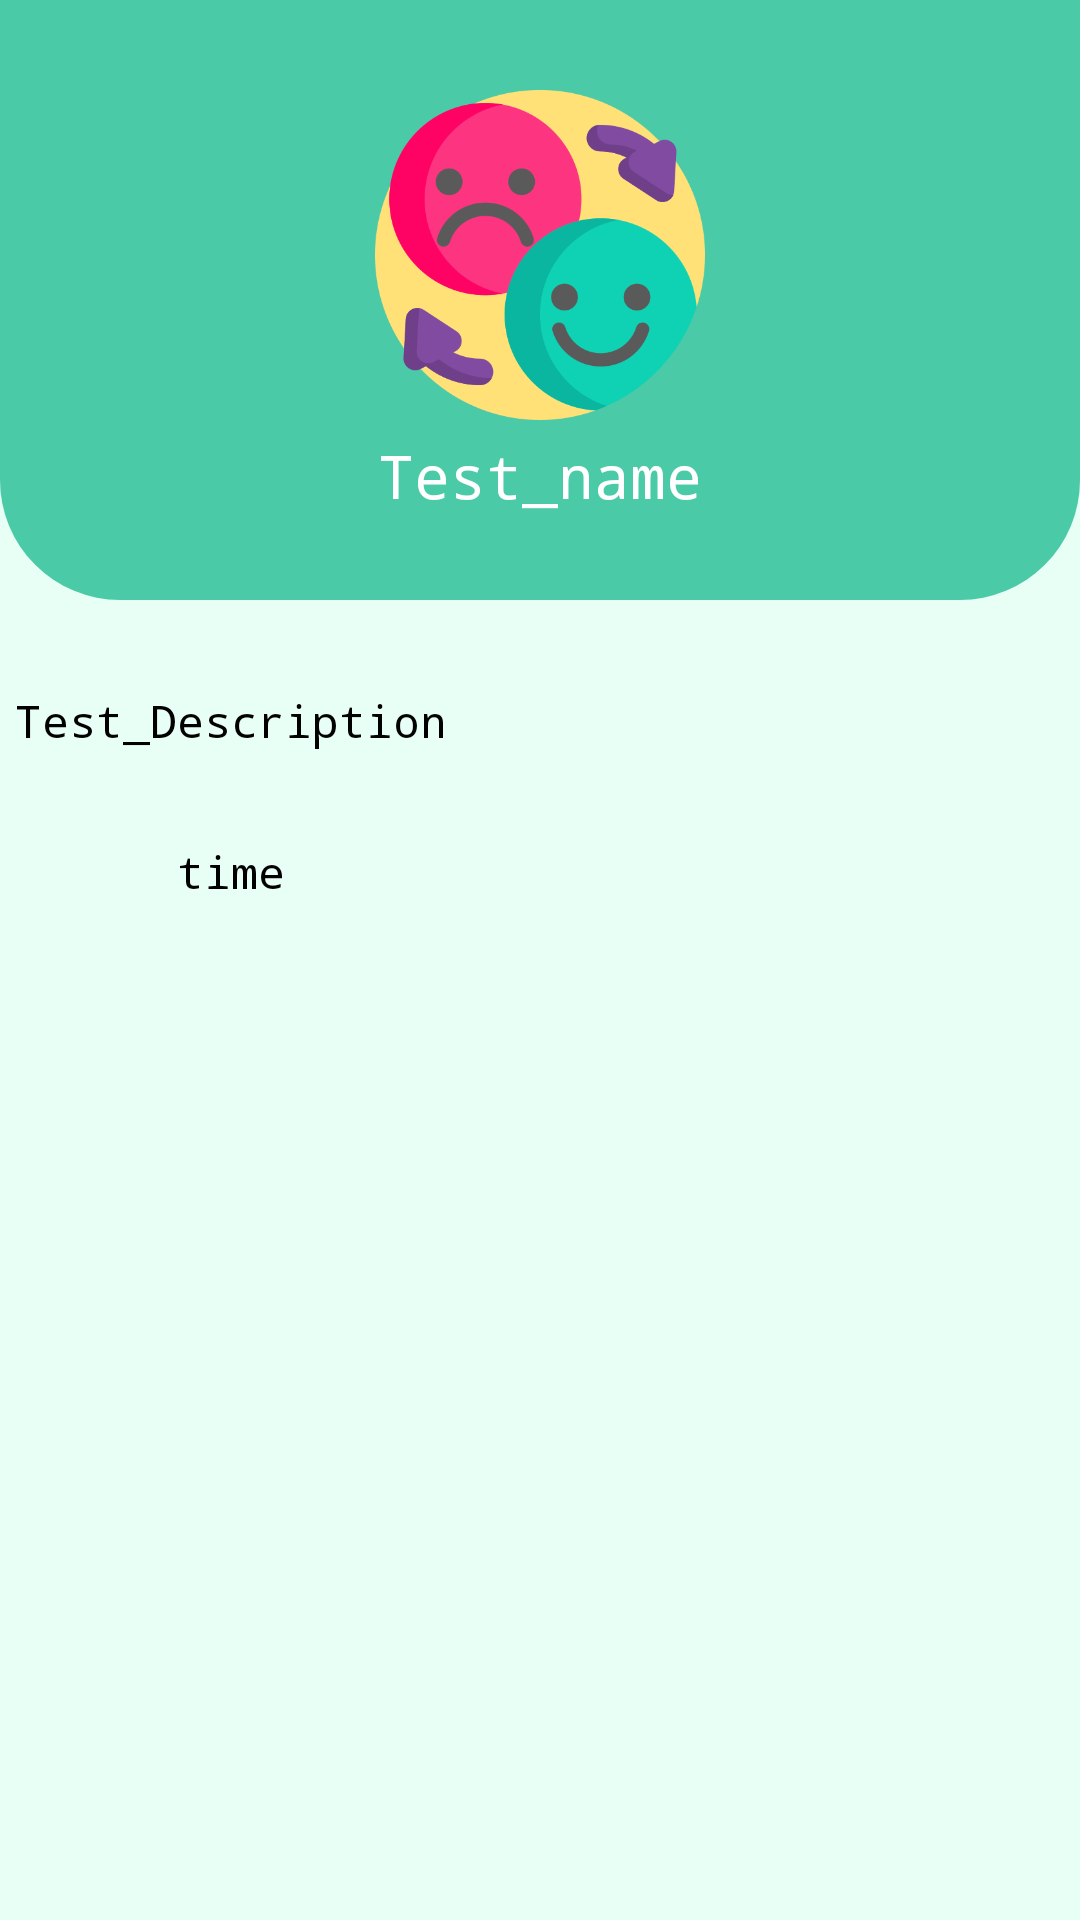

Icon click points for this 1080px x 1920px phone screenshot, format [x,y]:
mood: [540,255]
